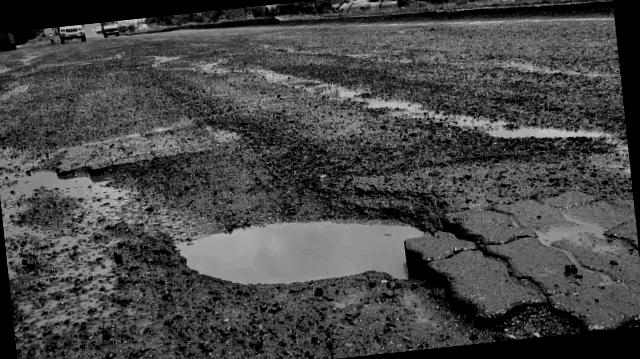Pothole: (104, 152, 463, 356), (0, 111, 153, 257)
